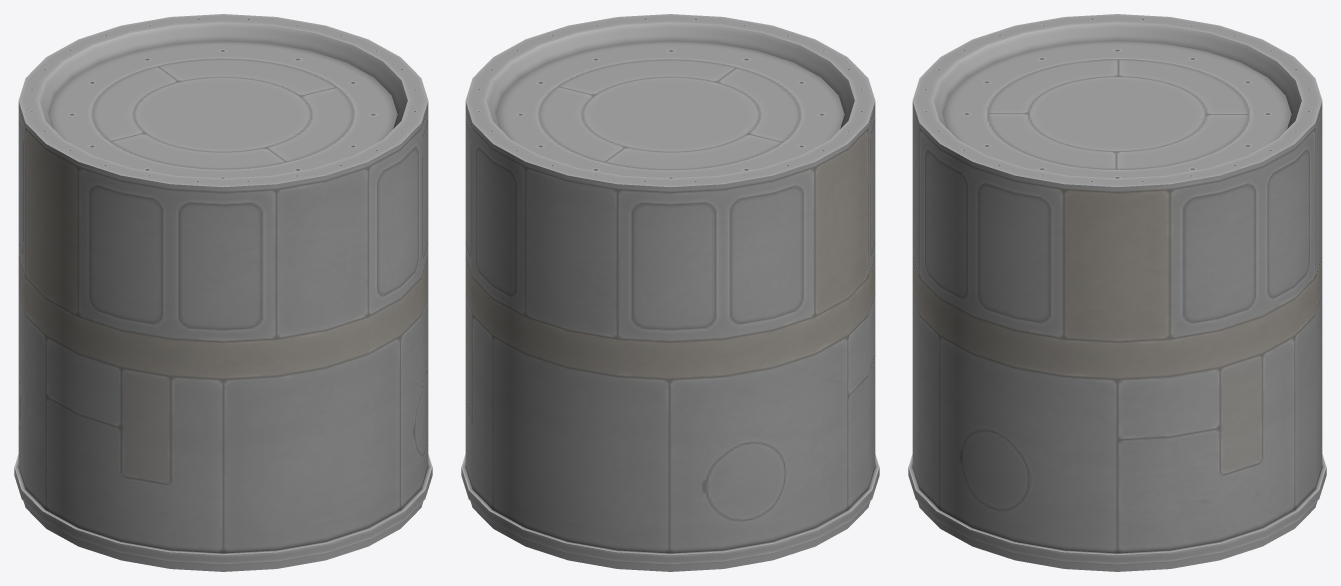
The model's file is Alniyat_Habitation_2_2.obj.
3 views of the same model, side by side, from view 1: azimuth 30°, elevation 25°; view 2: azimuth 150°, elevation 25°; view 3: azimuth 270°, elevation 25° (orthographic).
Parts seen in each view (by area): view 1: Alniyat_Habitation_2_2; view 2: Alniyat_Habitation_2_2; view 3: Alniyat_Habitation_2_2.
Part boxes in pixels (x1=…): Alniyat_Habitation_2_2: x1=14, y1=14, x2=432, y2=571; Alniyat_Habitation_2_2: x1=461, y1=14, x2=879, y2=571; Alniyat_Habitation_2_2: x1=908, y1=14, x2=1326, y2=571.
Size of the model in its own units: 1.27 by 1.29 by 1.27.
